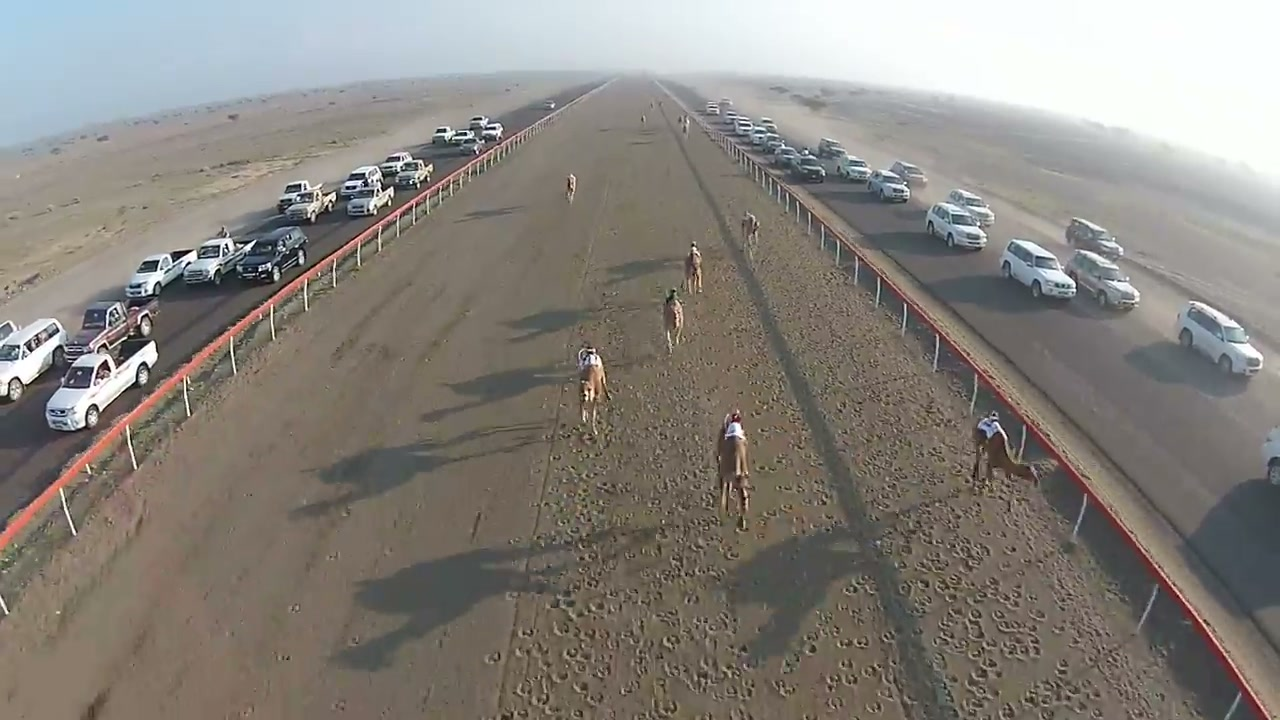animal_foot_print: (833, 359, 1104, 719), (986, 500, 1169, 719), (726, 310, 852, 524), (649, 370, 715, 710), (551, 428, 625, 668), (771, 570, 896, 712)
